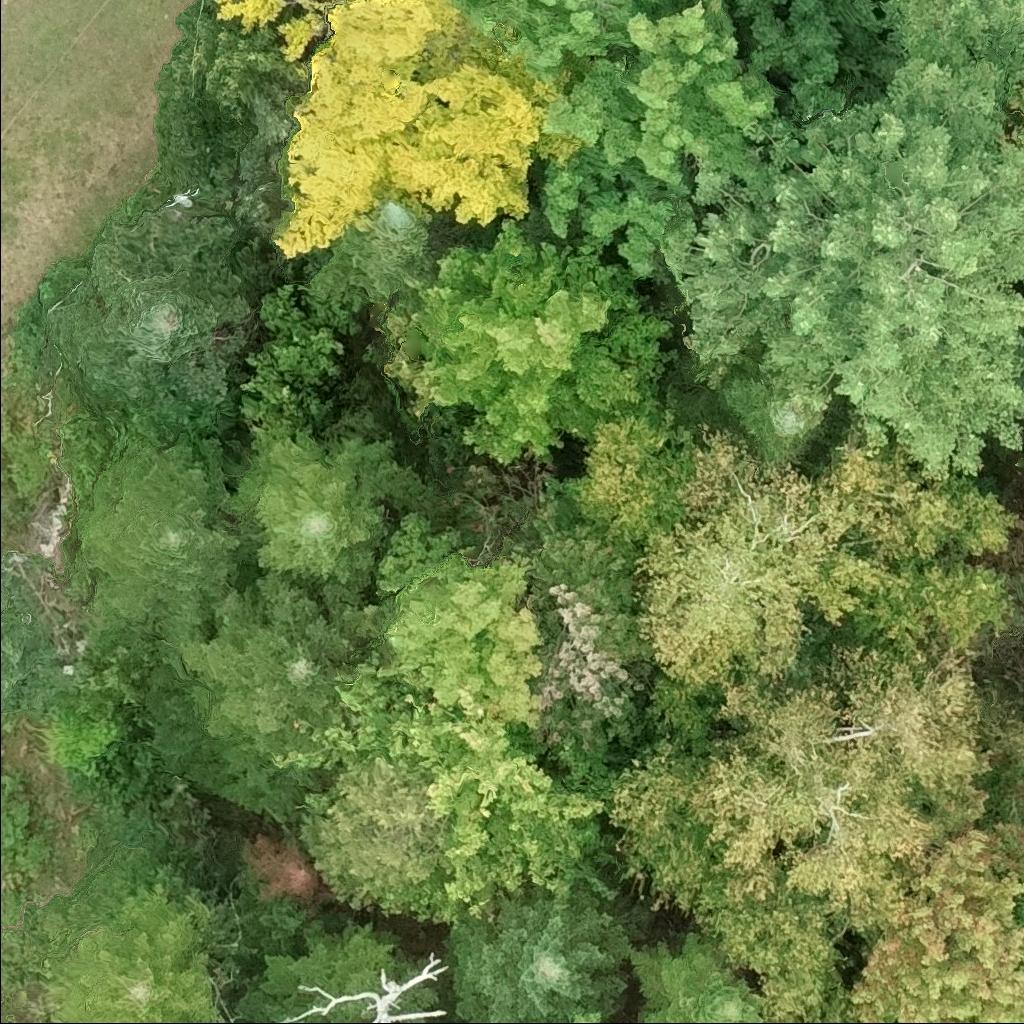crown: (671, 52, 1023, 482), (600, 636, 988, 1023), (633, 405, 1023, 691), (265, 641, 613, 927), (273, 0, 581, 261), (379, 204, 677, 464), (539, 0, 797, 280), (145, 568, 396, 821), (41, 200, 253, 412), (845, 777, 1023, 1023), (514, 474, 660, 754), (76, 431, 244, 669), (369, 515, 549, 730), (227, 412, 418, 585), (47, 873, 231, 1023), (443, 885, 632, 1023), (298, 754, 447, 916), (559, 382, 698, 545), (235, 915, 427, 1023), (240, 275, 359, 423), (445, 0, 659, 77), (848, 555, 1023, 648), (308, 191, 437, 309), (838, 0, 1023, 80), (729, 0, 847, 124), (630, 919, 768, 1023), (274, 949, 449, 1023), (712, 365, 828, 462), (0, 599, 77, 717), (232, 869, 312, 951), (243, 834, 320, 902), (274, 0, 340, 57), (972, 755, 1023, 821), (213, 0, 281, 34), (568, 1011, 620, 1023), (224, 1011, 273, 1023), (1017, 896, 1023, 918), (298, 1021, 313, 1023), (640, 1023, 641, 1023)
